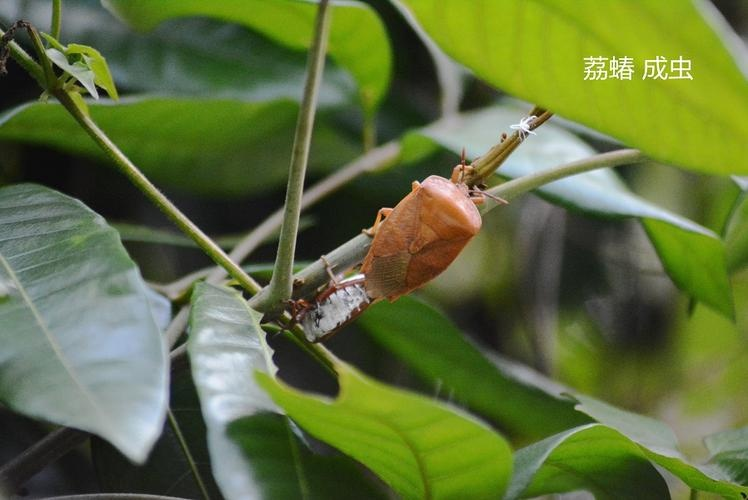Stink_Bug: (374, 178, 481, 289), (312, 261, 357, 345)
